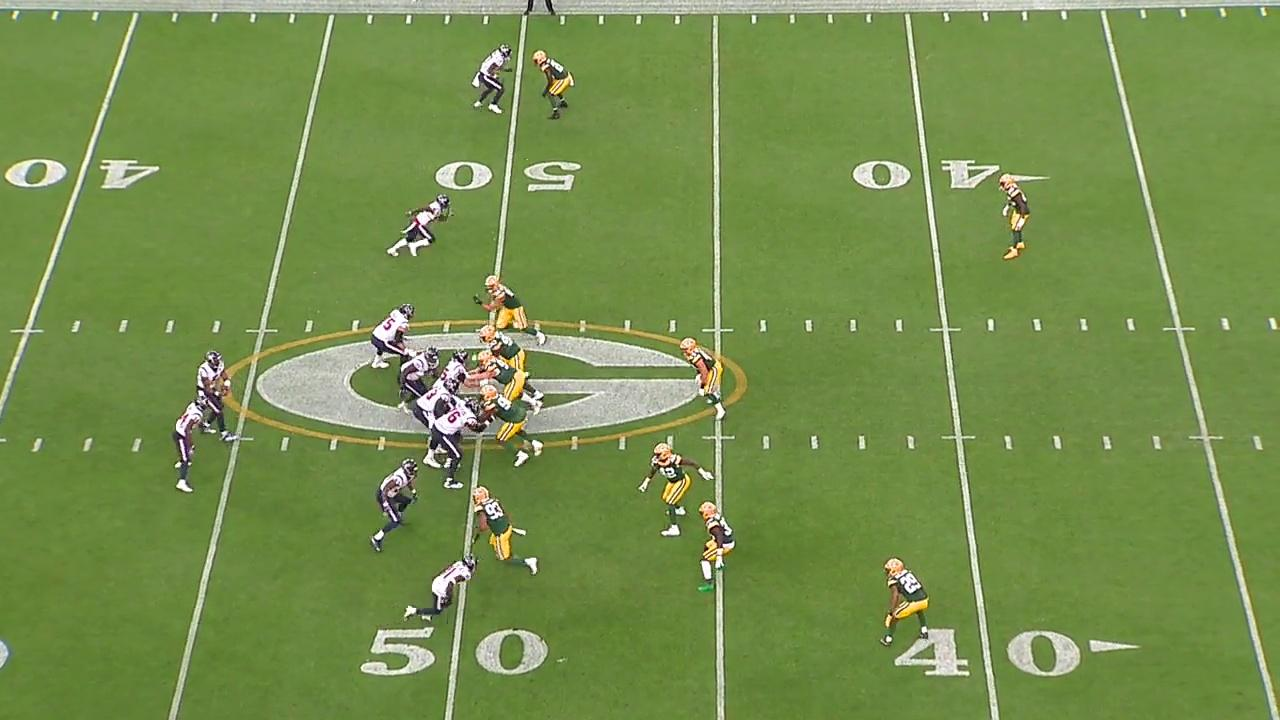defense: (638, 439, 713, 538), (468, 481, 542, 579), (469, 271, 551, 349), (475, 386, 545, 468), (879, 551, 934, 649), (474, 348, 546, 419), (674, 332, 728, 422), (990, 172, 1041, 261), (693, 499, 737, 592), (530, 44, 574, 128), (473, 320, 526, 374)
oline: (430, 398, 491, 492), (411, 377, 460, 457), (368, 301, 420, 374), (395, 345, 443, 415), (433, 345, 474, 391)
qb: (194, 348, 239, 445)
skill: (400, 554, 478, 626), (366, 458, 422, 555), (385, 191, 458, 261), (165, 394, 209, 496), (467, 41, 517, 115)
